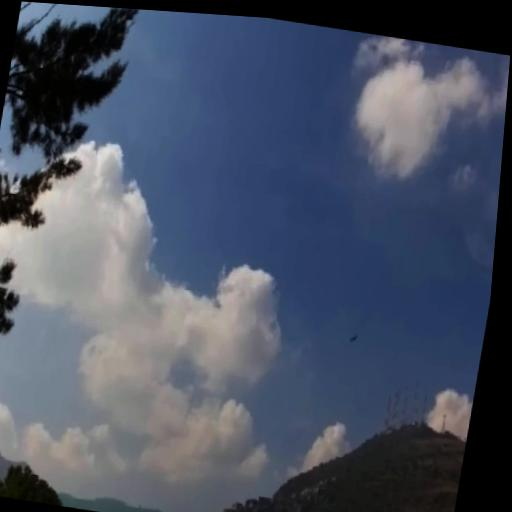drones: (344, 327, 362, 348)
